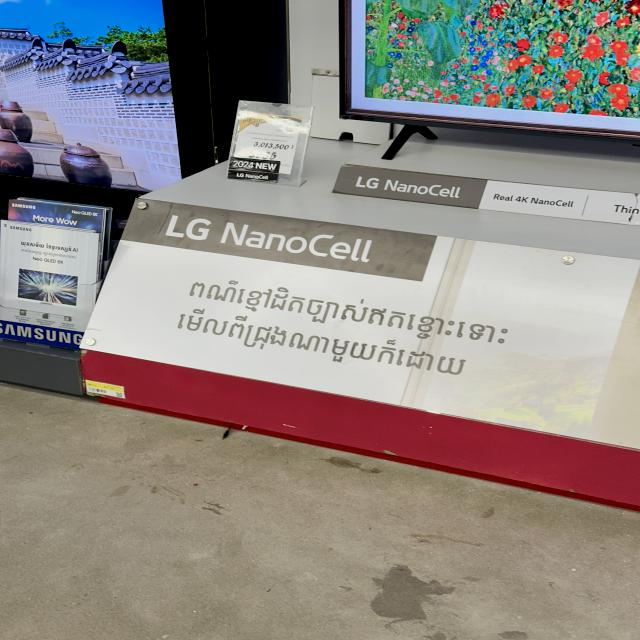Yolov11_80vkh: (159, 300, 483, 388), (172, 270, 519, 350)
